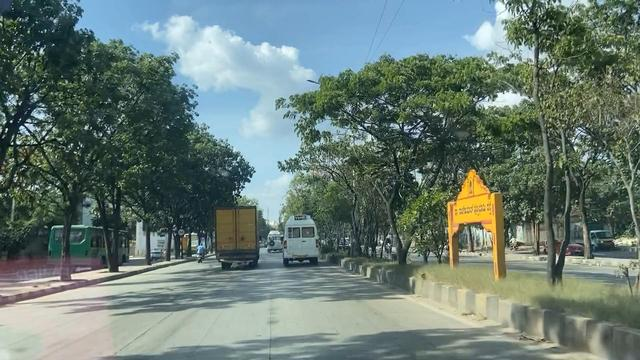HMV: (212, 204, 258, 268), (277, 215, 323, 265)
